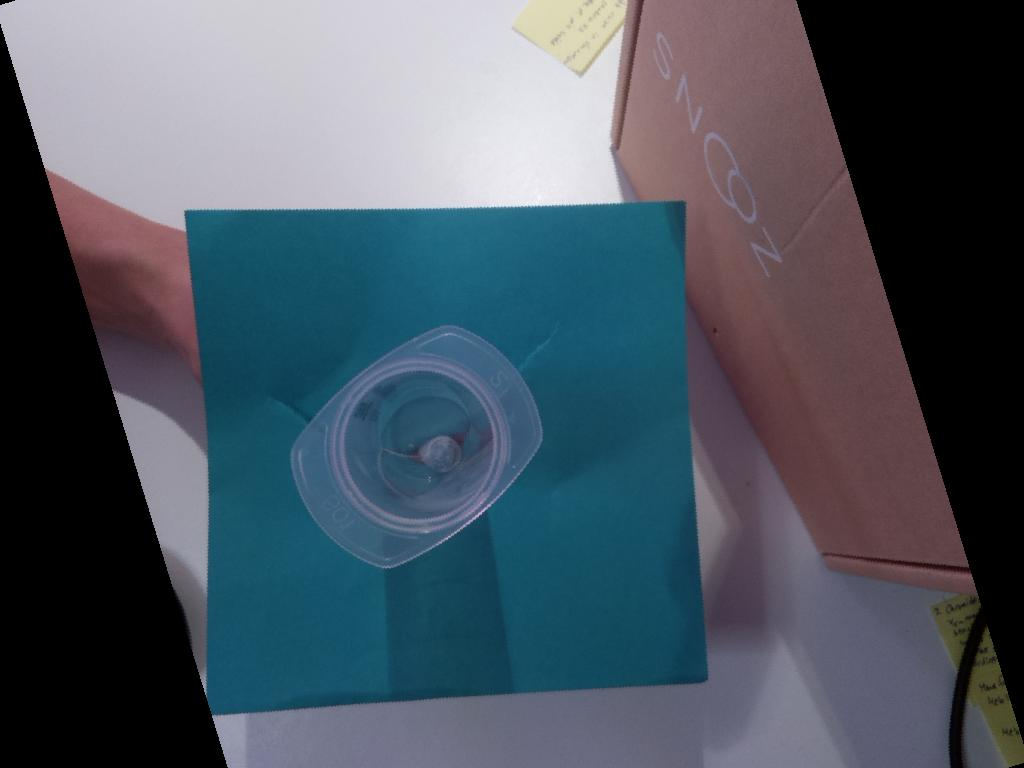clean: (291, 326, 544, 569)
